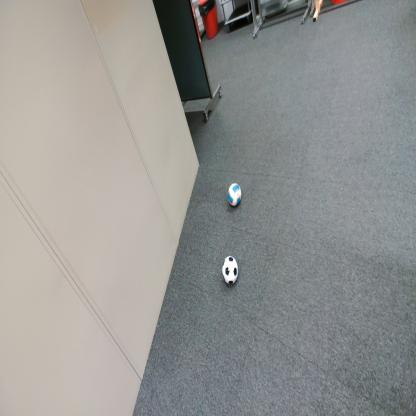ball: (221, 255, 238, 286), (227, 181, 242, 207)
